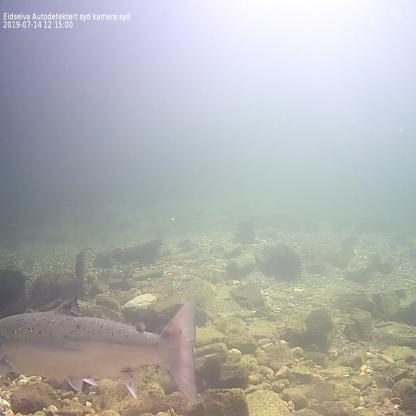salmon: (0, 294, 202, 406)
